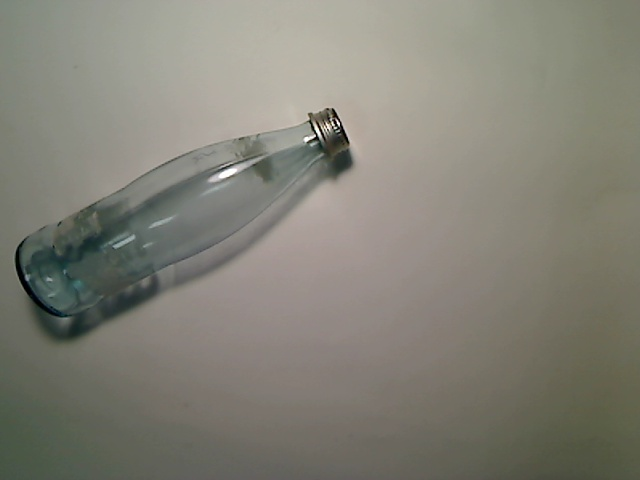bottle: (14, 106, 351, 318)
